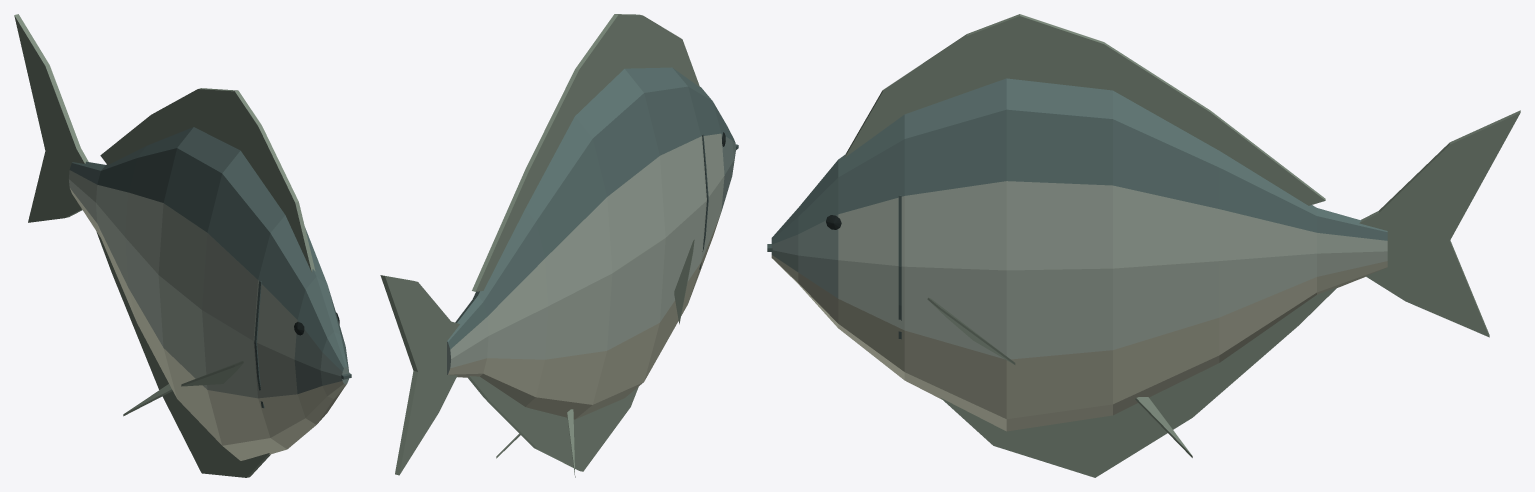
3 views of the same model, side by side, from view 1: azimuth 30°, elevation 25°; view 2: azimuth 150°, elevation 25°; view 3: azimuth 270°, elevation 25° (orthographic). The views are drawn at different scales.
Visible parts, largest first — view 1: deep-diamond-trunk-and-small-head, long-dorsal-margin, upturned-asymmetric-caudal-fan, long-ventral-margin, left-conservative-pectoral, left-subtle-gill-cover-indication; view 2: deep-diamond-trunk-and-small-head, long-dorsal-margin, upturned-asymmetric-caudal-fan, long-ventral-margin, left-conservative-pectoral; view 3: deep-diamond-trunk-and-small-head, long-dorsal-margin, upturned-asymmetric-caudal-fan, long-ventral-margin.
Boxes of the visible parts, x1,y1,x2,y2 form: deep-diamond-trunk-and-small-head: [69, 127, 349, 460]; long-dorsal-margin: [100, 88, 315, 272]; upturned-asymmetric-caudal-fan: [14, 14, 88, 222]; long-ventral-margin: [96, 232, 270, 477]; left-conservative-pectoral: [181, 361, 243, 386]; left-subtle-gill-cover-indication: [254, 281, 264, 408]; deep-diamond-trunk-and-small-head: [447, 67, 735, 419]; long-dorsal-margin: [472, 14, 699, 291]; upturned-asymmetric-caudal-fan: [380, 275, 459, 475]; long-ventral-margin: [468, 376, 638, 471]; left-conservative-pectoral: [674, 239, 694, 324]; deep-diamond-trunk-and-small-head: [771, 78, 1387, 431]; long-dorsal-margin: [844, 14, 1325, 205]; upturned-asymmetric-caudal-fan: [1359, 110, 1520, 337]; long-ventral-margin: [941, 287, 1337, 477].
Size of the model in its own units: 0.034 by 0.115 by 0.17.
